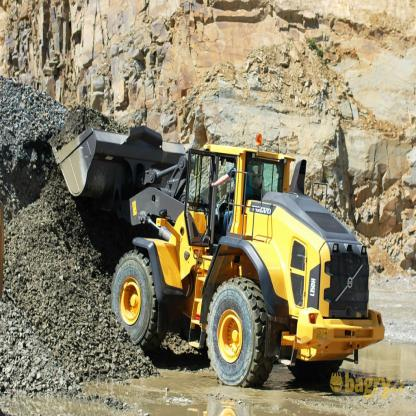bull_dozer/loader/grader: (44, 105, 385, 395)
